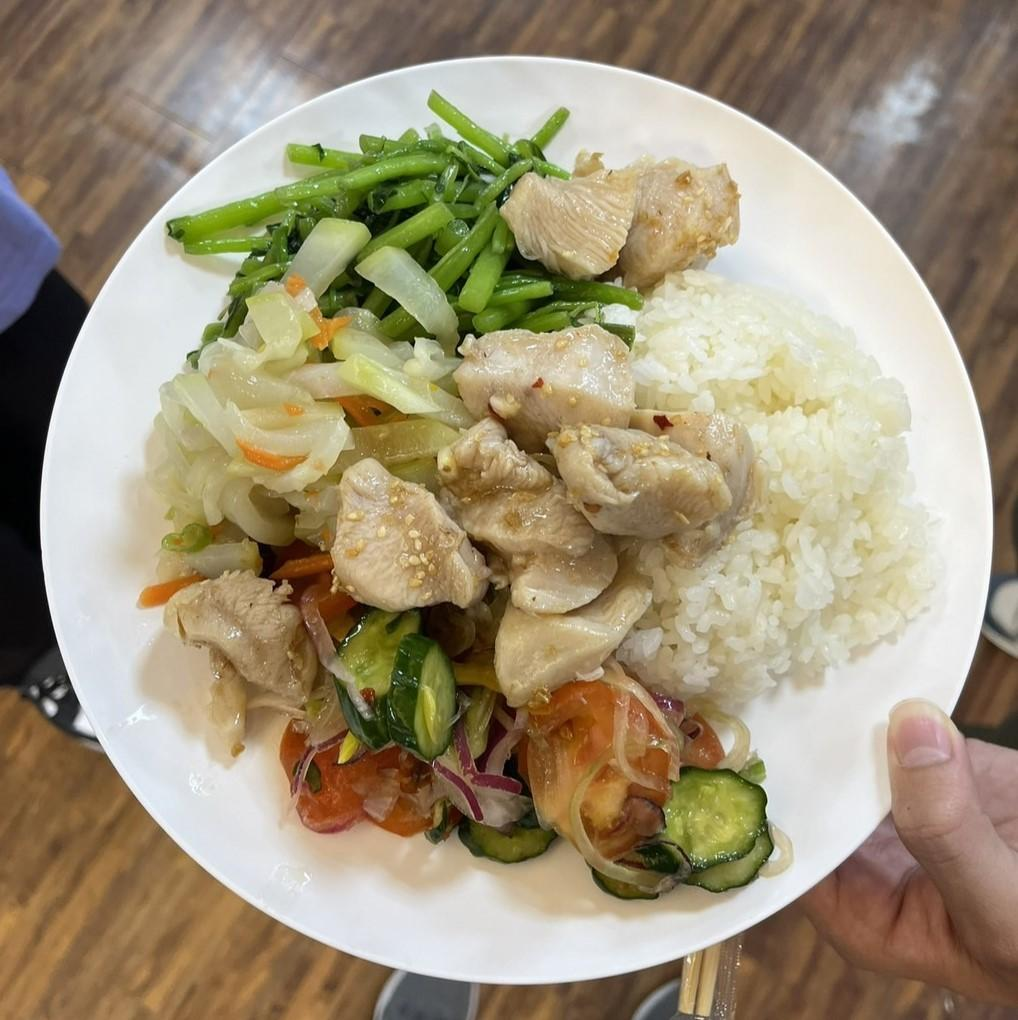big fried chicken leg: (45, 35, 1001, 988)
big herbal chicken leg: (575, 268, 946, 694)
braised fish fillet: (255, 634, 806, 890), (131, 273, 471, 588), (179, 111, 606, 357)
braised pork: (339, 150, 746, 708)
